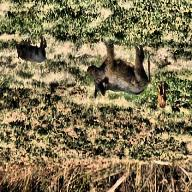boar: (83, 37, 158, 107)
